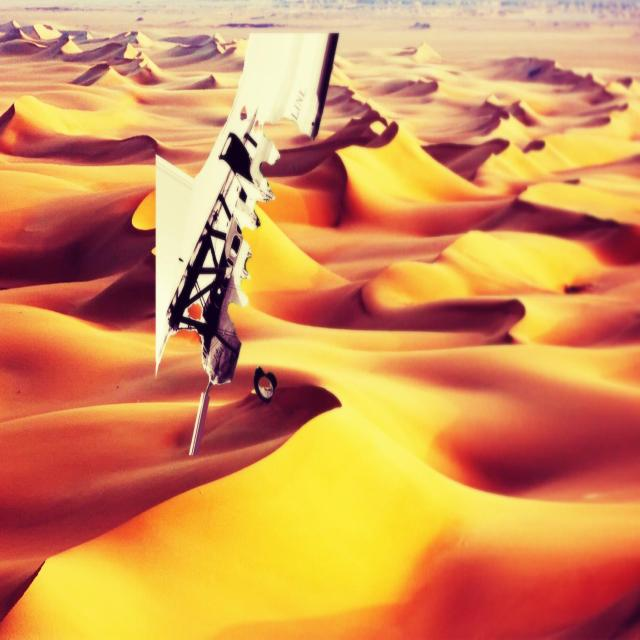airplane: (155, 31, 340, 457)
